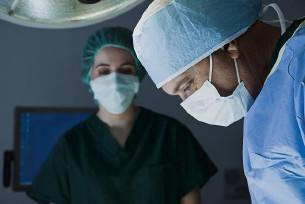OK: (173, 53, 255, 127), (92, 57, 138, 113)
